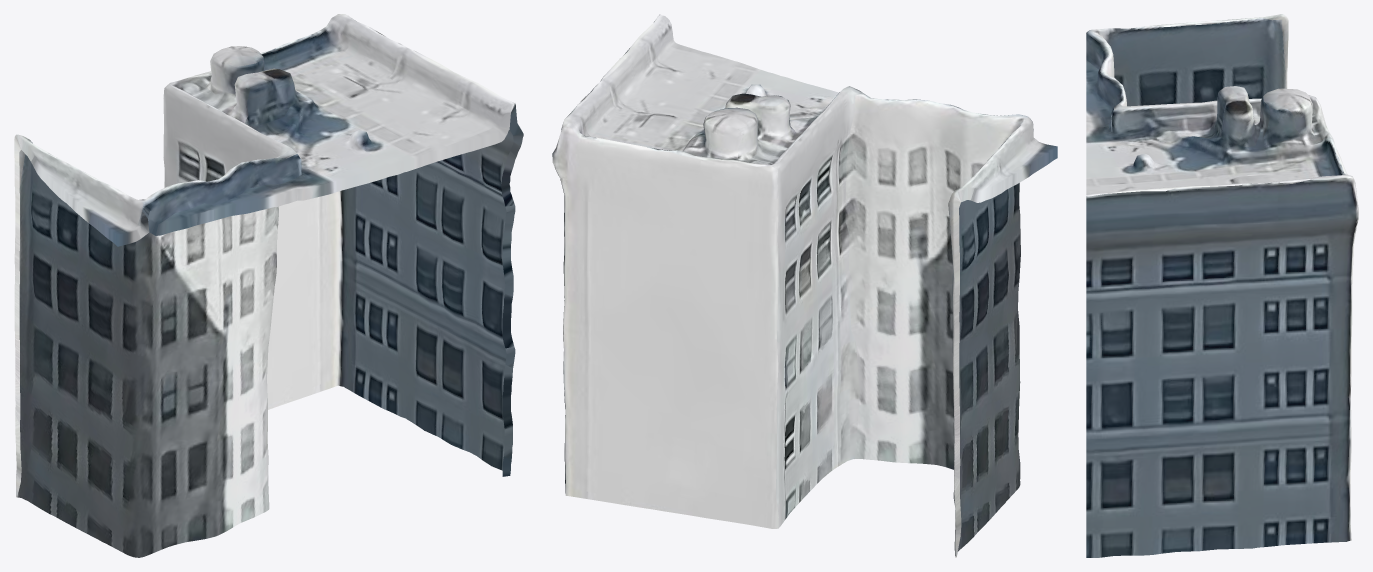
Rendered from z20-167755-405244-h1-yup-uvflip-v3-world.glb.
3 renders of one model, left to right at view 1: azimuth 30°, elevation 25°; view 2: azimuth 150°, elevation 25°; view 3: azimuth 270°, elevation 25°, orthographic. The views are drawn at different scales.
Size of the model in its own units: 23.12 by 21.28 by 13.72.
1 material, 1 textured.
